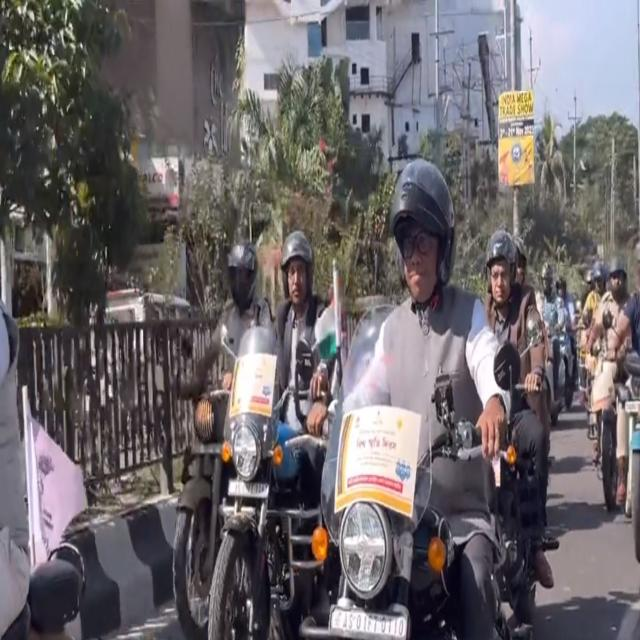motorcycle: (284, 159, 520, 639), (208, 231, 335, 640), (172, 243, 272, 639), (485, 228, 559, 623)
